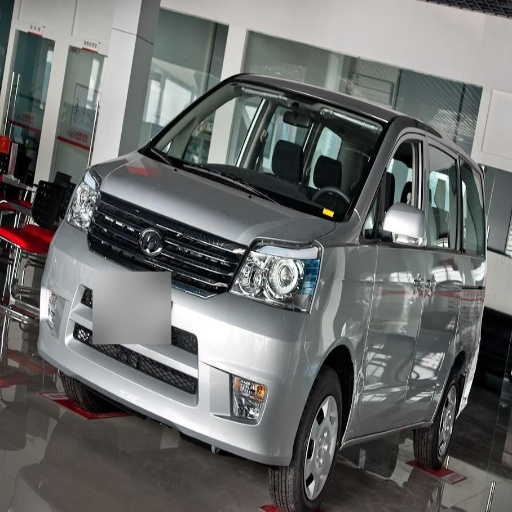front_bumper: (43, 198, 320, 462)
front_glass: (141, 95, 388, 219)
front_left_door: (359, 131, 448, 416)
